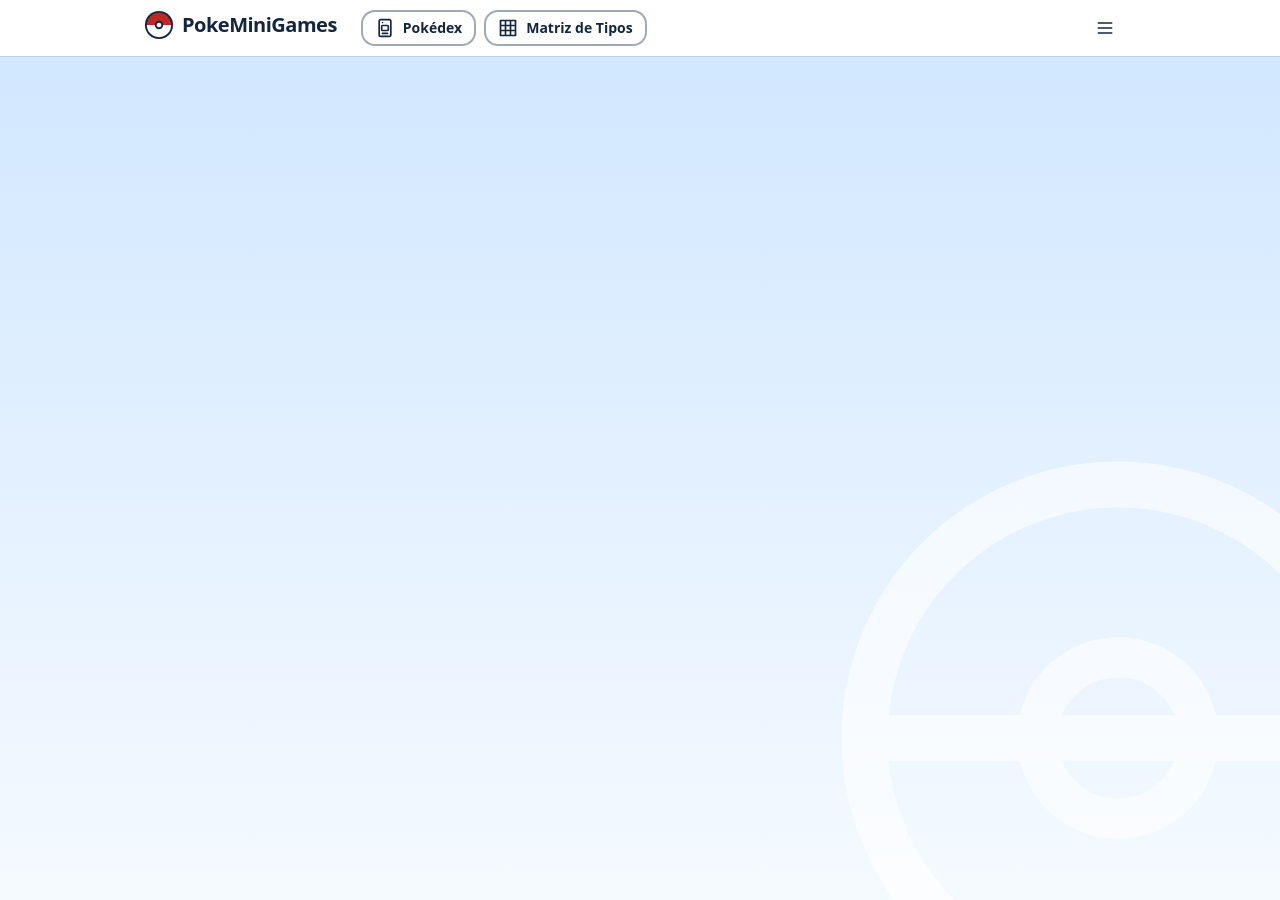
Test: el menú del encabezado › dentro están el sonido y la apariencia, cada uno con su nombre
What coordinates should you click on to do the following:
click the button named "Menú"
I would click on:
 (1105, 28)
Its box is [1074,9,1136,47].
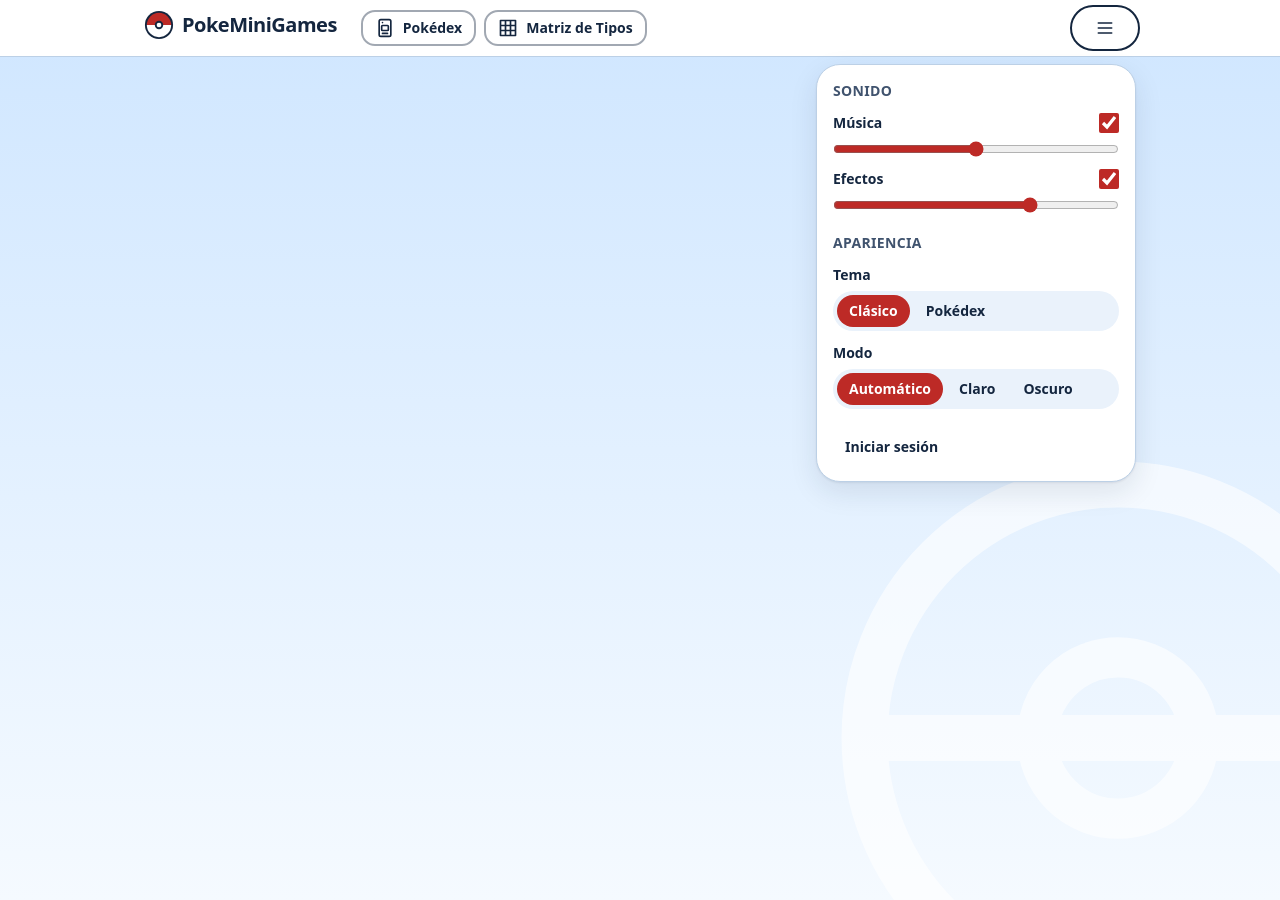
expect the button named "Menú" is expanded: met, box [1074,9,1136,47]
expect the element "Sonido" is shown: met, box [833,81,1119,213]
expect the element "Apariencia" is shown: met, box [833,233,1119,409]
